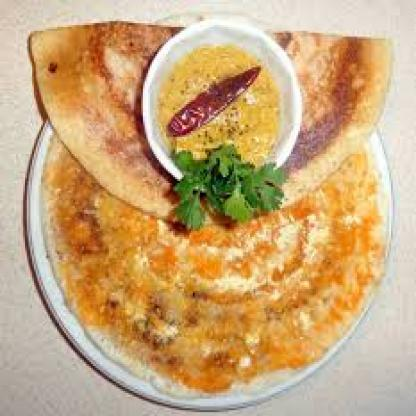dosa: (39, 131, 389, 400), (29, 21, 392, 225)
